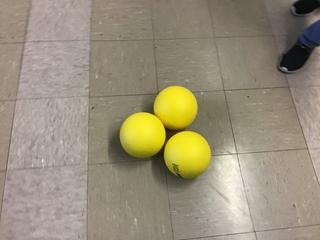power_cell: (162, 130, 214, 179), (118, 111, 166, 160), (152, 84, 201, 130)
